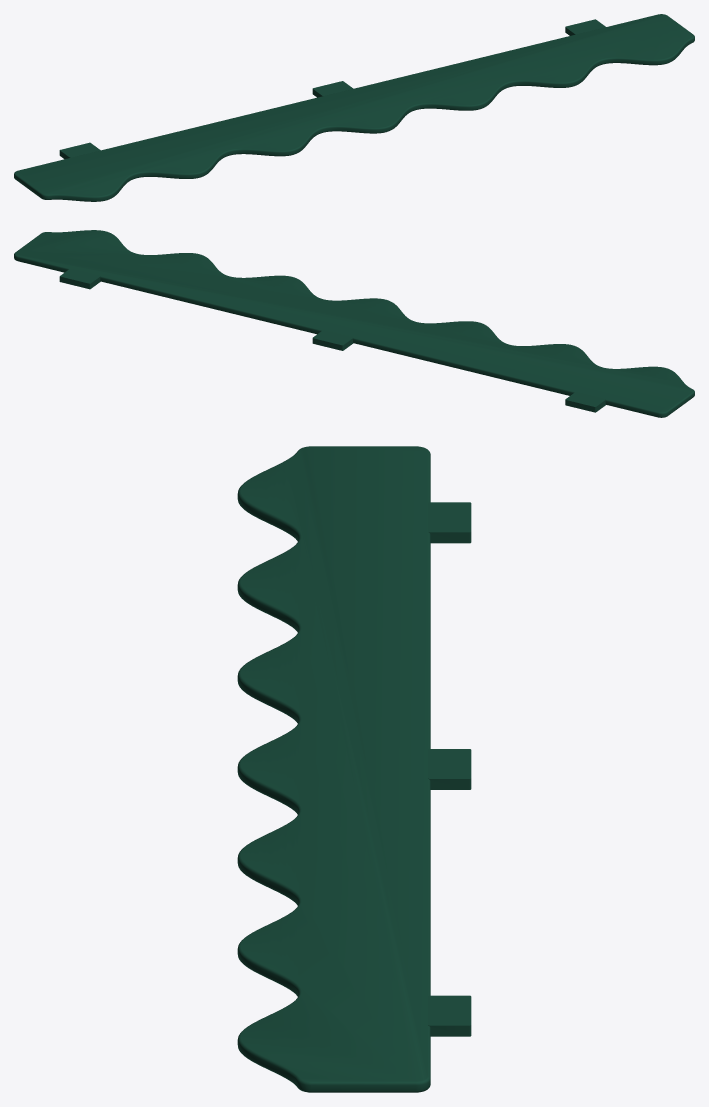
3 renders of one model, top to bottom at view 1: azimuth 30°, elevation 25°; view 2: azimuth 150°, elevation 25°; view 3: azimuth 270°, elevation 25°, orthographic. The views are drawn at different scales.
Visible parts, largest first — view 1: G15_PineGreen; view 2: G15_PineGreen; view 3: G15_PineGreen.
Part boxes in pixels (x1,y1,x2,y2): G15_PineGreen: (14, 14, 694, 201); G15_PineGreen: (14, 230, 694, 417); G15_PineGreen: (237, 446, 471, 1092).
Bounding box in the file's own units: 297 × 2.4 × 46.
